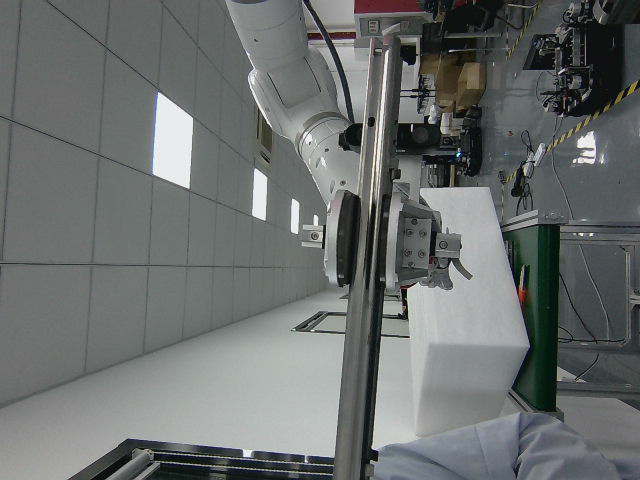down: (333, 35, 404, 479)
